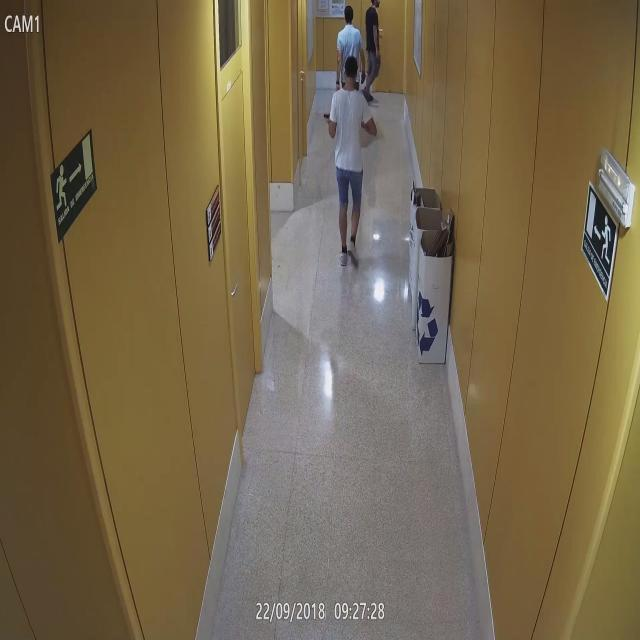weapon: (322, 112, 332, 121)
